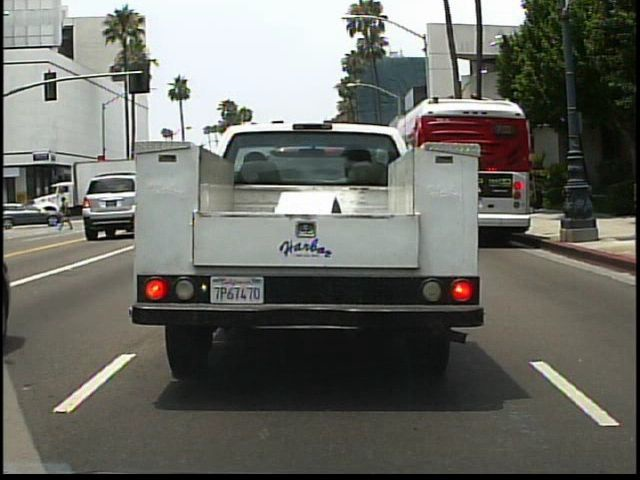person: (56, 190, 76, 235), (19, 196, 38, 231)
